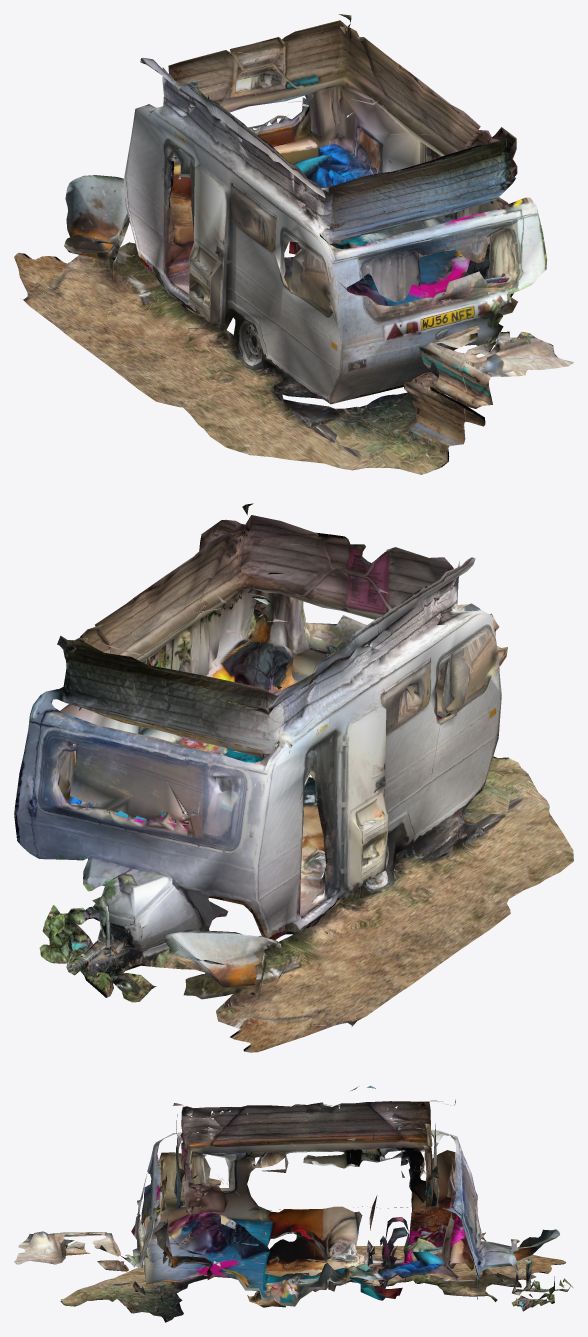
Rendered from Caravan.glb.
The picture shows the model from 3 angles, top to bottom: view 1: azimuth 30°, elevation 25°; view 2: azimuth 150°, elevation 25°; view 3: azimuth 270°, elevation 25°; orthographic projection. The views are drawn at different scales.
Visible parts, largest first — view 1: New; view 2: New; view 3: New.
Boxes of the visible parts, box(x1,y1,x2,y2) form: New: box(14, 14, 573, 474); New: box(14, 503, 573, 1052); New: box(14, 1085, 572, 1322).
Bounding box in the file's own units: 3.03 × 2.43 × 6.04.
1 material, 1 textured.
